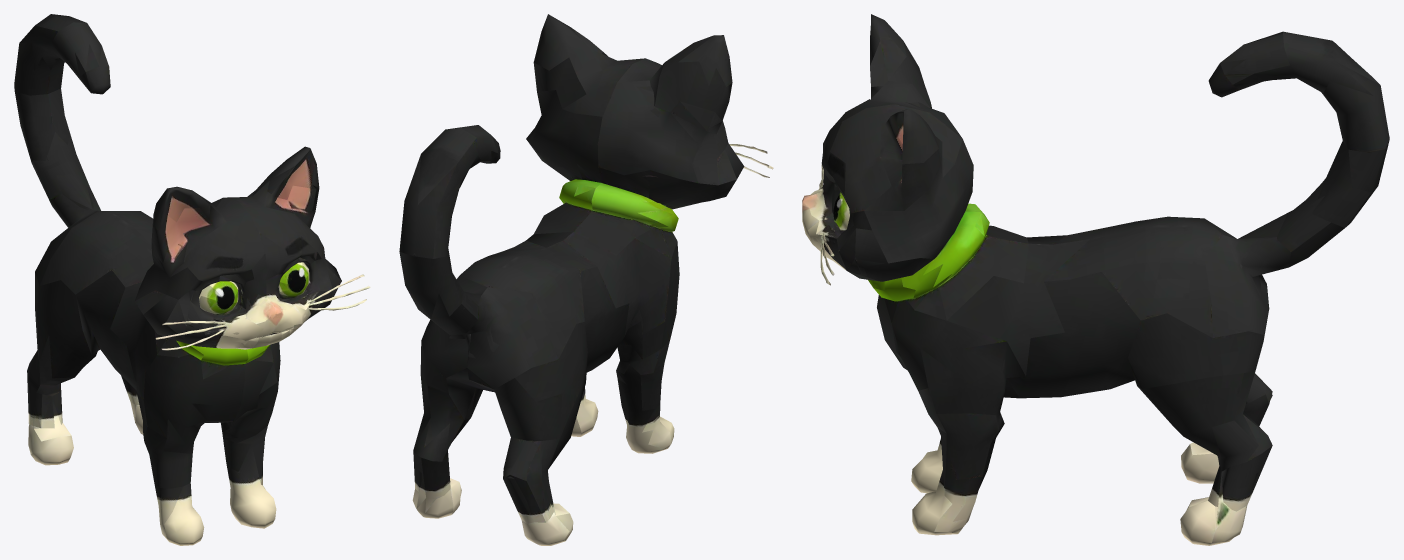
File: street-cat.glb
3 views of the same model, side by side, from view 1: azimuth 30°, elevation 25°; view 2: azimuth 150°, elevation 25°; view 3: azimuth 270°, elevation 25° (orthographic). The views are drawn at different scales.
Bounding box in the file's own units: 0.498 × 0.8906 × 1.
Materials: 1 (1 with a texture image).
